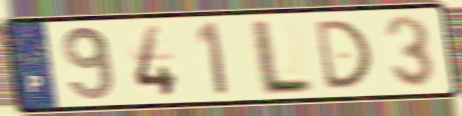1: (195, 19, 232, 98)
3: (383, 13, 437, 91)
4: (131, 23, 180, 99)
9: (60, 25, 118, 103)
D: (312, 17, 375, 92)
L: (250, 16, 315, 98)
